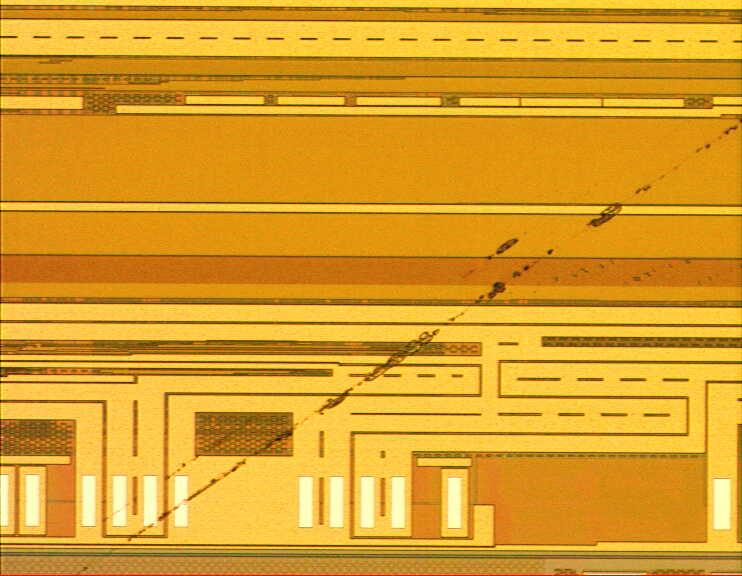SCRATCH: (14, 75, 742, 576)
